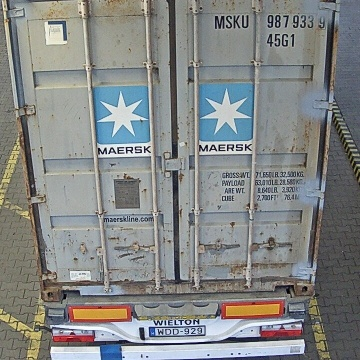serial_id: (215, 14, 326, 28)
